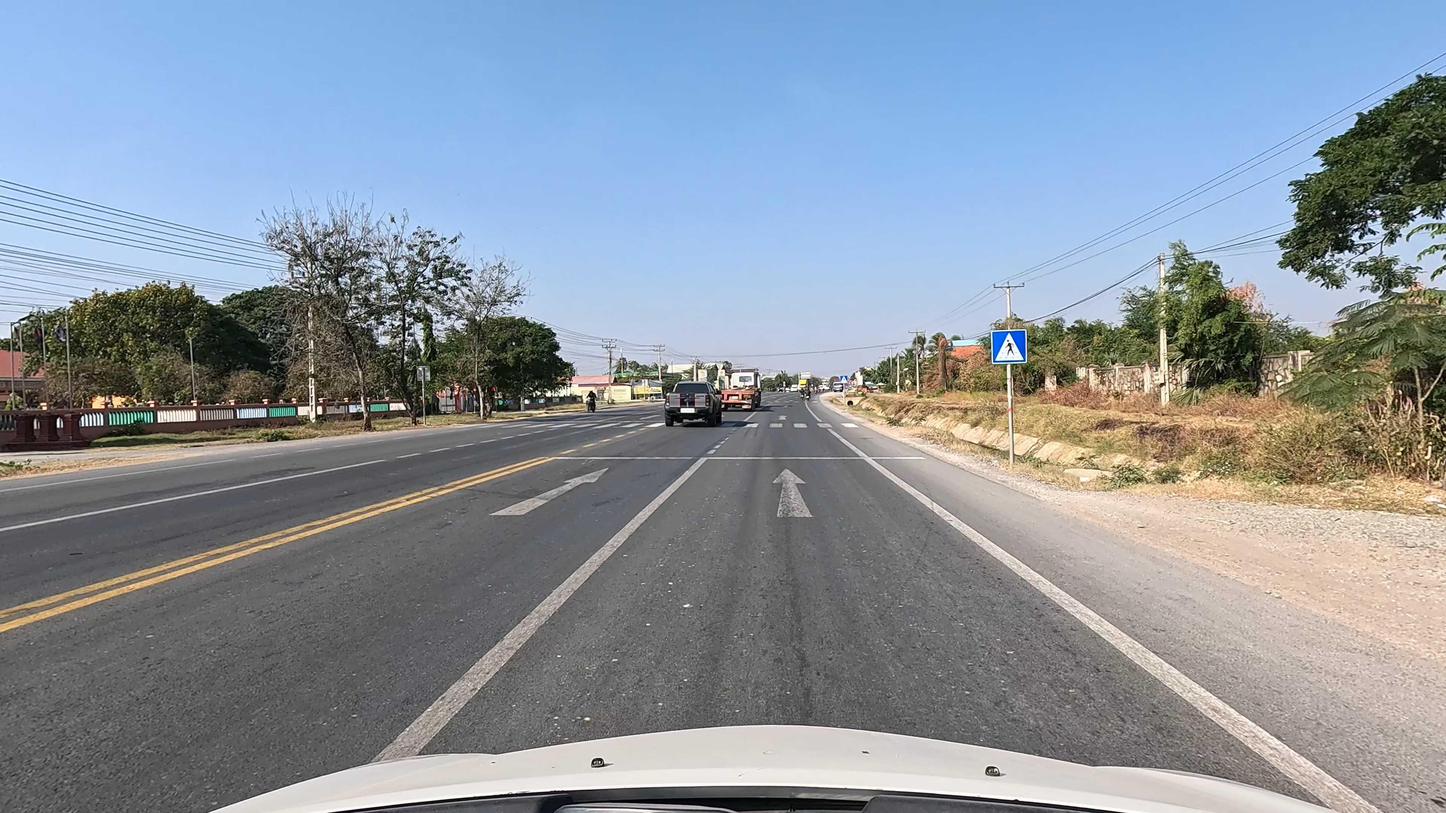pedestrian_crossing: (990, 329, 1027, 365), (839, 376, 849, 383)
